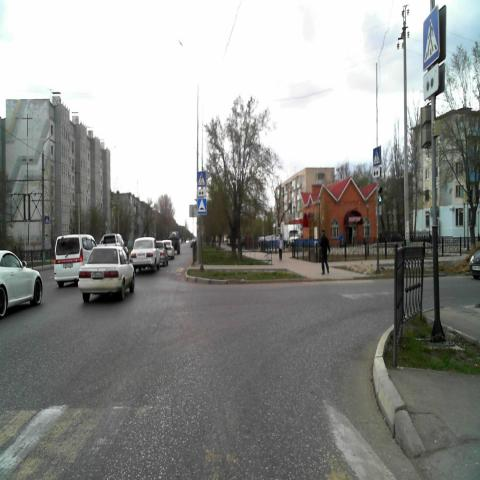5_19_1: (373, 146, 381, 166), (197, 171, 206, 187)
